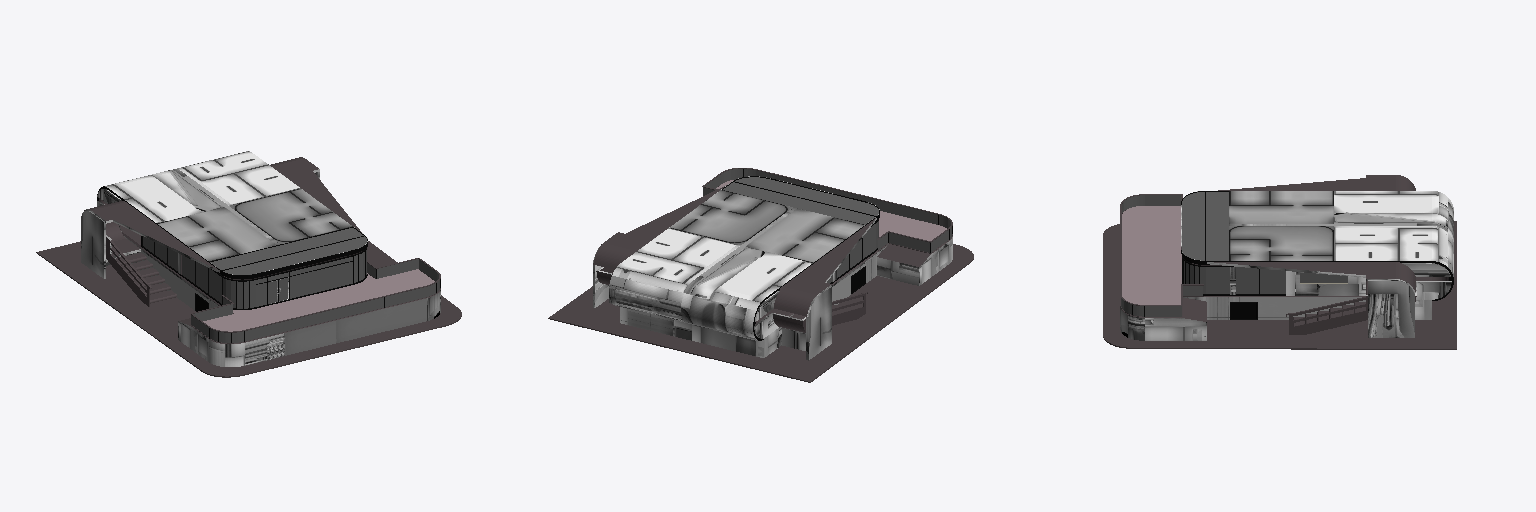
3 renders of one model, left to right at view 1: azimuth 30°, elevation 25°; view 2: azimuth 150°, elevation 25°; view 3: azimuth 270°, elevation 25°, orthographic.
Parts seen in each view (by area): view 1: Walls_outside_Plane.036, FLoor_white_Plane.024, Glas_Cube.003, Tiles_outside_1_Plane.035, Metal_1_Plane.033, Cube.009_Cube.001; view 2: Walls_outside_Plane.036, FLoor_white_Plane.024, Glas_Cube.003, Tiles_outside_1_Plane.035, Metal_1_Plane.033; view 3: Walls_outside_Plane.036, FLoor_white_Plane.024, Glas_Cube.003, Tiles_outside_1_Plane.035, Metal_1_Plane.033.
Boxes of the visible parts, x1,y1,x2,y2 form: Walls_outside_Plane.036: [81, 151, 440, 366]; FLoor_white_Plane.024: [36, 157, 461, 377]; Glas_Cube.003: [143, 228, 439, 342]; Tiles_outside_1_Plane.035: [203, 269, 434, 331]; Metal_1_Plane.033: [97, 186, 440, 342]; Cube.009_Cube.001: [267, 277, 289, 305]; Walls_outside_Plane.036: [593, 176, 952, 360]; FLoor_white_Plane.024: [548, 168, 973, 382]; Glas_Cube.003: [703, 169, 951, 283]; Tiles_outside_1_Plane.035: [716, 180, 946, 240]; Metal_1_Plane.033: [722, 169, 952, 340]; Walls_outside_Plane.036: [1120, 191, 1453, 340]; FLoor_white_Plane.024: [1103, 175, 1456, 349]; Glas_Cube.003: [1121, 192, 1347, 316]; Tiles_outside_1_Plane.035: [1122, 206, 1181, 304]; Metal_1_Plane.033: [1132, 191, 1453, 319].
Size of the model in its own units: 248 by 54.6 by 290.
Materials: 29 (1 with a texture image).